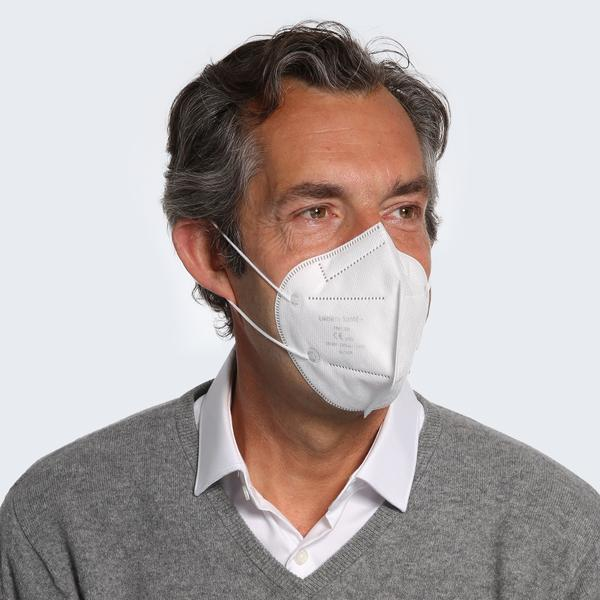with_mask: (271, 145, 415, 390)
